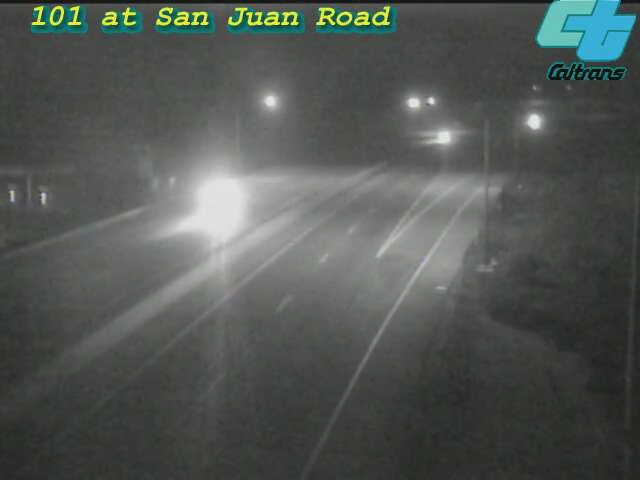vehicle: (180, 161, 260, 241), (420, 113, 470, 163), (508, 97, 558, 147)
